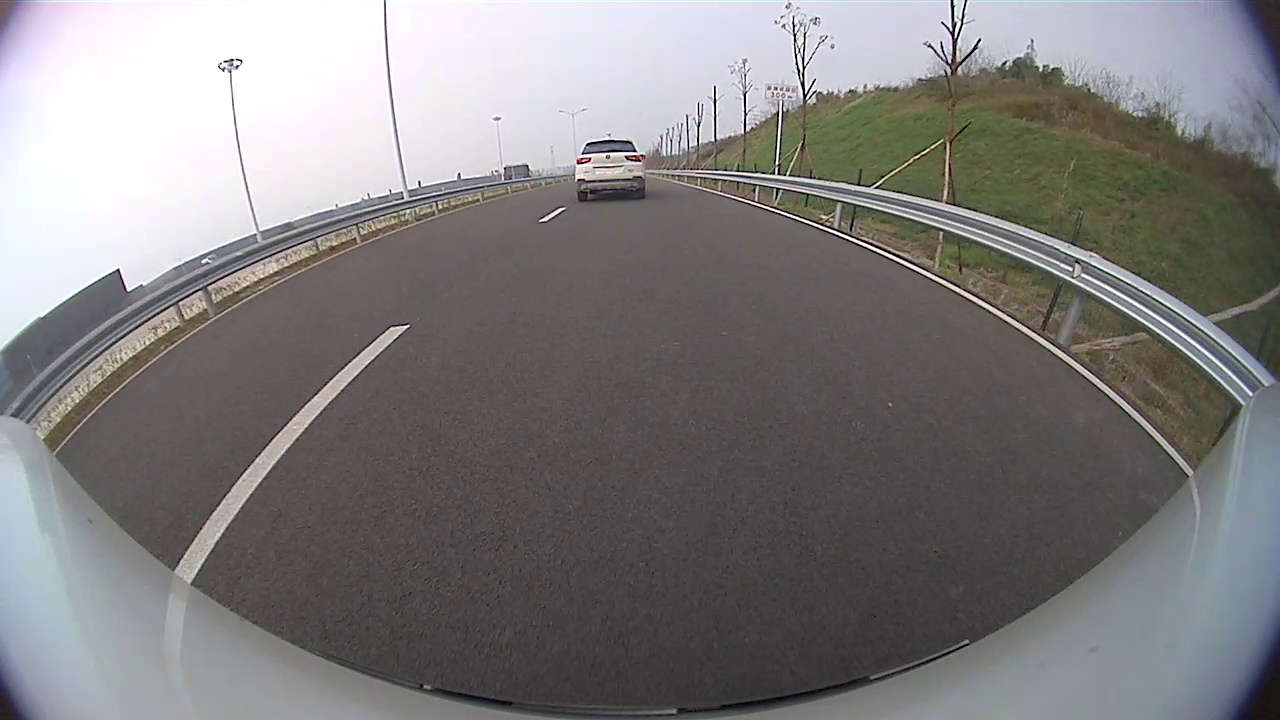car: (572, 139, 649, 203)
